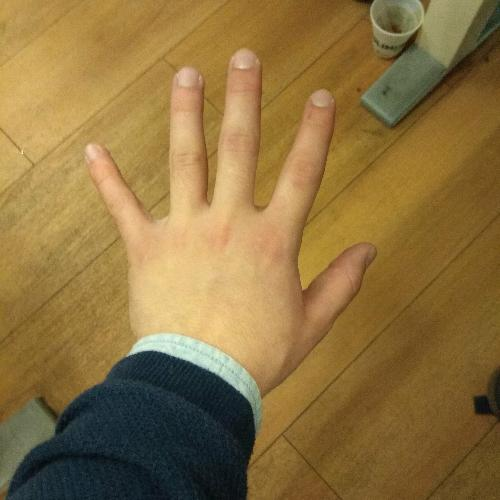paper: (73, 40, 388, 392)
